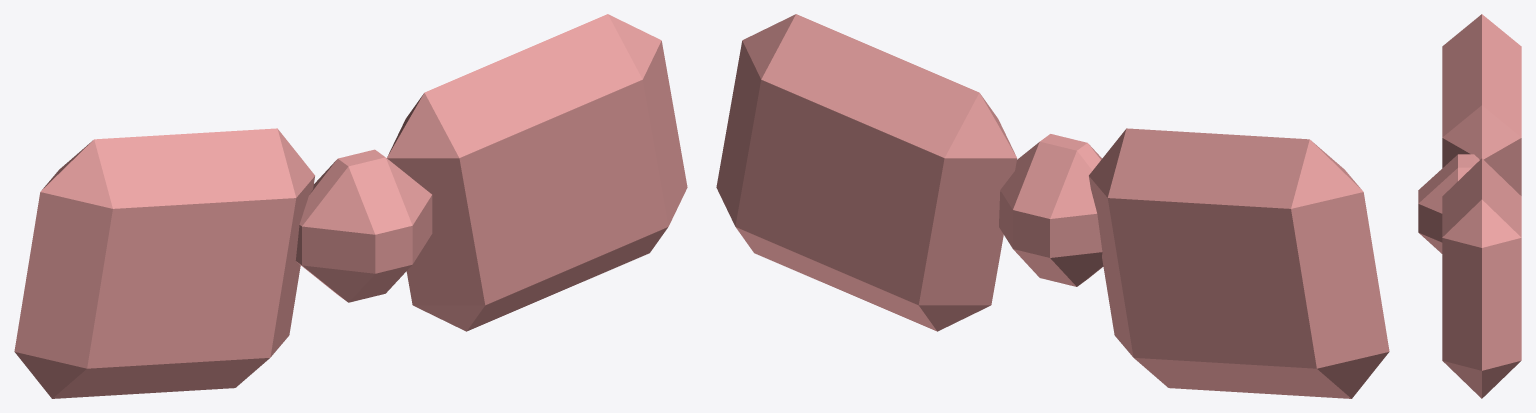
The model's file is CatCafe_Accessory_BowTie.fbx.
3 renders of one model, left to right at view 1: azimuth 30°, elevation 25°; view 2: azimuth 150°, elevation 25°; view 3: azimuth 270°, elevation 25°, orthographic. The views are drawn at different scales.
Visible parts, largest first — view 1: CatCafe_Accessory_BowTie; view 2: CatCafe_Accessory_BowTie; view 3: CatCafe_Accessory_BowTie.
Boxes of the visible parts, box(x1,y1,x2,y2) form: CatCafe_Accessory_BowTie: box(14, 14, 687, 398); CatCafe_Accessory_BowTie: box(716, 14, 1389, 398); CatCafe_Accessory_BowTie: box(1418, 14, 1521, 398).
Bounding box in the file's own units: 0.7232 × 0.2908 × 0.13.
Materials: 1 (1 with a texture image).
